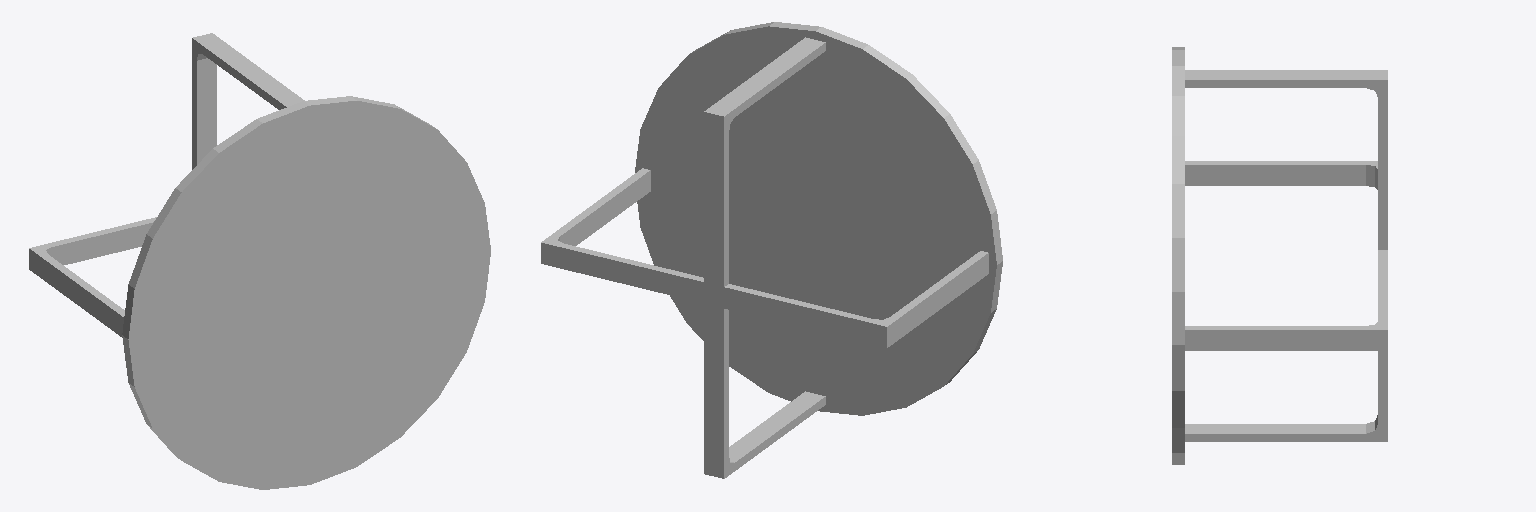
Rendered from CoffeeTable.obj.
3 views of the same model, side by side, from view 1: azimuth 30°, elevation 25°; view 2: azimuth 150°, elevation 25°; view 3: azimuth 270°, elevation 25° (orthographic).
Parts seen in each view (by area): view 1: CoffeeTable; view 2: CoffeeTable; view 3: CoffeeTable.
Boxes of the visible parts, box(x1,y1,x2,y2) form: CoffeeTable: box(29, 33, 490, 489); CoffeeTable: box(541, 22, 1002, 478); CoffeeTable: box(1172, 47, 1387, 464).
Size of the model in its own units: 88.85 by 88.85 by 45.69.